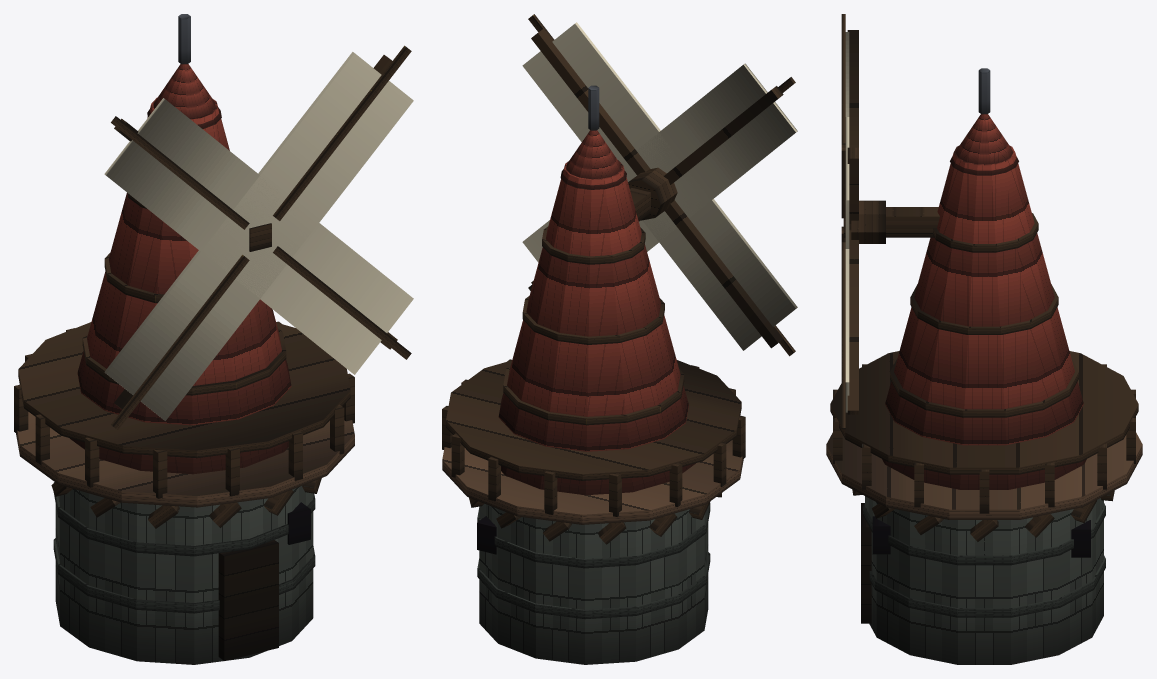
The model's file is windmill.glb.
3 renders of one model, left to right at view 1: azimuth 30°, elevation 25°; view 2: azimuth 150°, elevation 25°; view 3: azimuth 270°, elevation 25°, orthographic. The views are drawn at different scales.
Parts seen in each view (by area): view 1: windmill; view 2: windmill; view 3: windmill.
Boxes of the visible parts, x1,y1,x2,y2 form: windmill: (14, 14, 413, 664); windmill: (442, 14, 797, 664); windmill: (826, 14, 1142, 664).
Bounding box in the file's own units: 1.69 × 3.12 × 1.64.
Materials: 1 (1 with a texture image).
